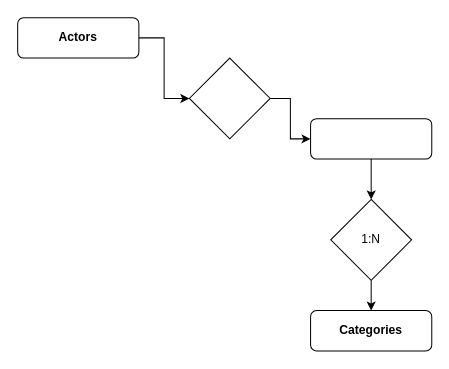
Some shapes in this 449 by 369 pixel diagram are drawn without their labels. The centre of each missing label's shape, as x and y in pixels:
"Movies" goes at pixel 371 138.
"N:1" goes at pixel 229 98.
